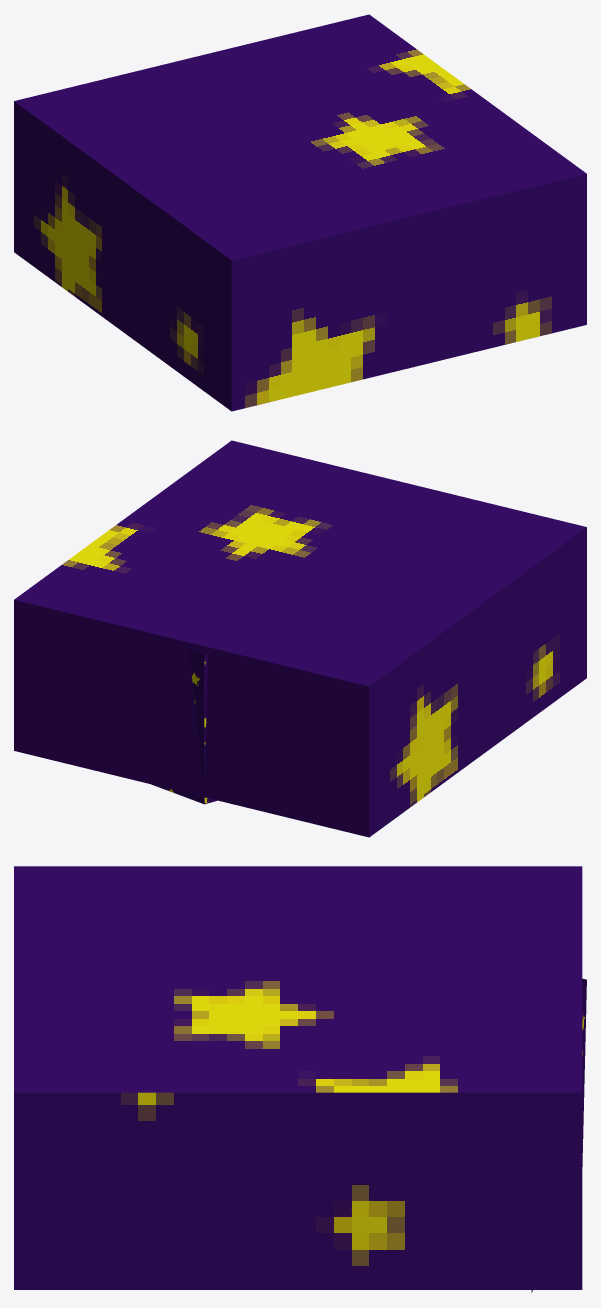
File: casino4.fbx
3 renders of one model, top to bottom at view 1: azimuth 30°, elevation 25°; view 2: azimuth 150°, elevation 25°; view 3: azimuth 270°, elevation 25°, orthographic. The views are drawn at different scales.
Visible parts, largest first — view 1: Casino_Room_Shell; view 2: Casino_Room_Shell, Casino.002; view 3: Casino_Room_Shell, Casino.002.
Boxes of the visible parts, x1=… form: Casino_Room_Shell: x1=14, y1=14, x2=586, y2=411; Casino_Room_Shell: x1=14, y1=440, x2=586, y2=837; Casino.002: x1=152, y1=649, x2=216, y2=804; Casino_Room_Shell: x1=14, y1=866, x2=582, y2=1289; Casino.002: x1=531, y1=978, x2=586, y2=1292.
Bounding box in the file's own units: 11055 × 4705 × 11827.
